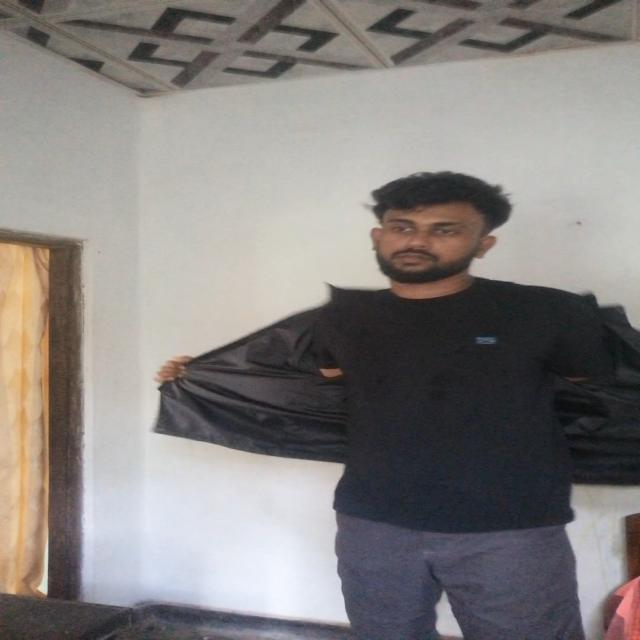Jacket_Wearer: (191, 277, 640, 531)
